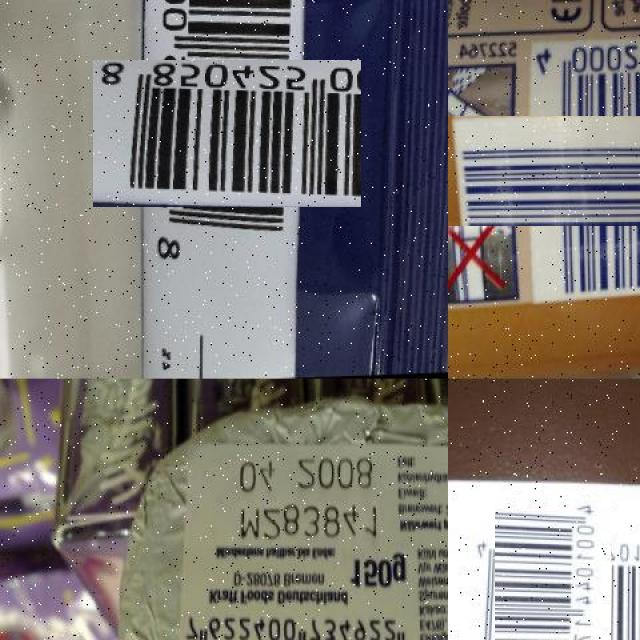Barcode: (124, 30, 332, 238), (488, 76, 640, 268), (480, 510, 625, 640), (183, 605, 417, 640)
